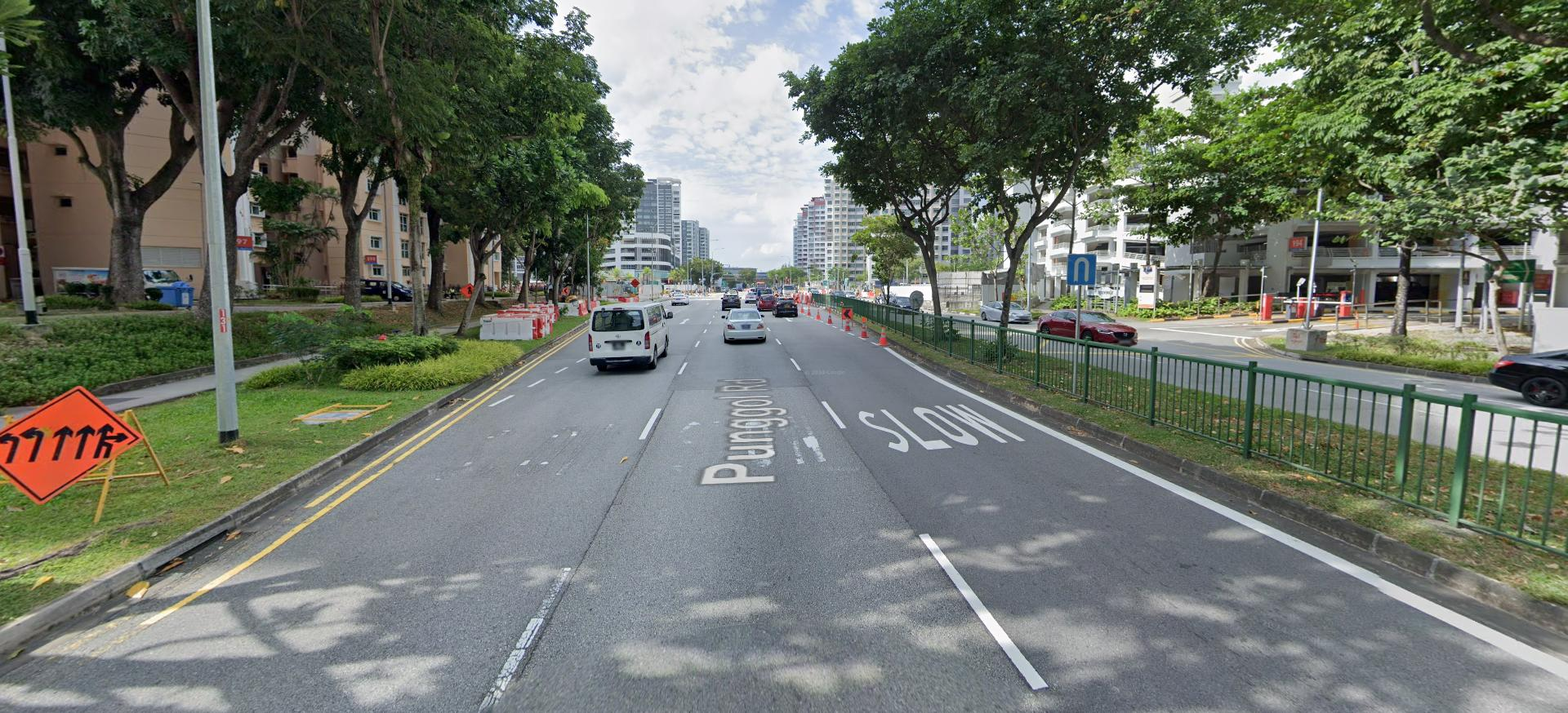normal: (163, 530, 260, 573)
